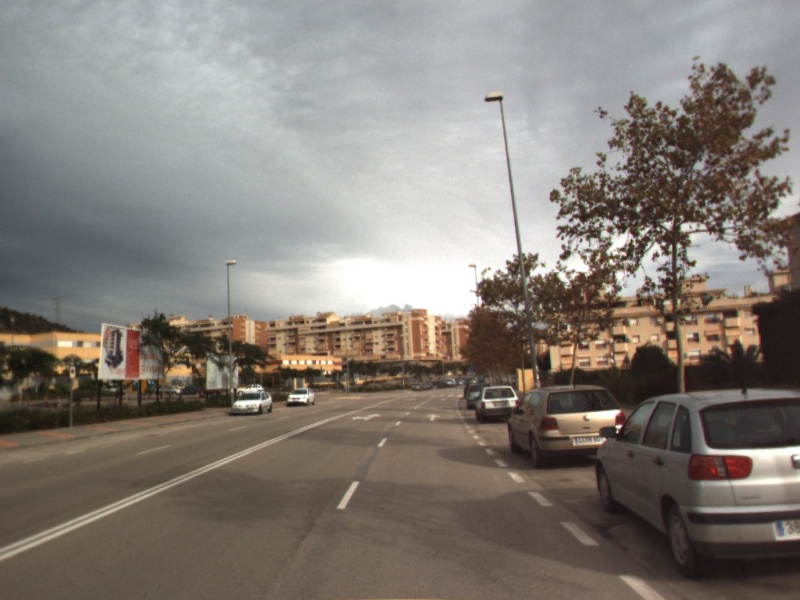STRAIGHT: (423, 411, 443, 423)
STRAIGHT_LEFT: (350, 411, 383, 423)
